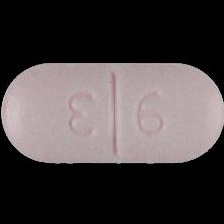76237-136: (0, 0, 224, 224)
